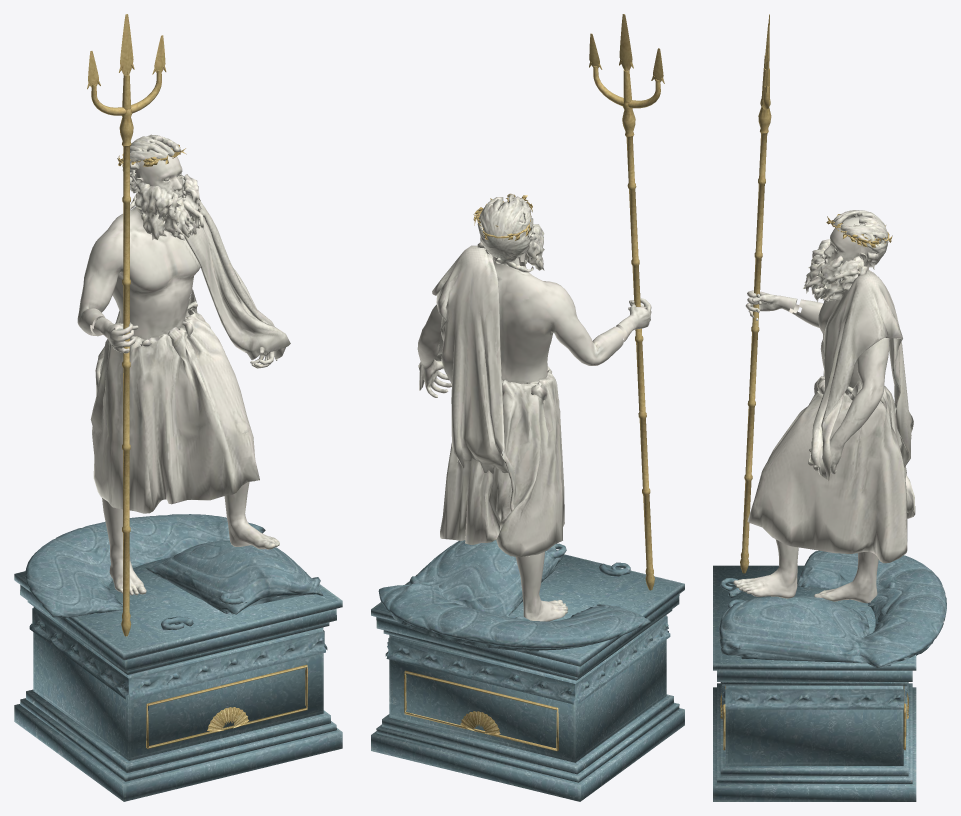
The model's file is guardian-tides-lod0.glb.
3 renders of one model, left to right at view 1: azimuth 30°, elevation 25°; view 2: azimuth 150°, elevation 25°; view 3: azimuth 270°, elevation 25°, orthographic. The views are drawn at different scales.
Parts seen in each view (by area): view 1: TIDES__PEDESTAL, TIDES__CLOTH, TIDES__WAVES, TIDES__BODY, TIDES__TRIDENT, TIDES__HAIR_BEARD, TIDES__DETAILS, TIDES__FACE, TIDES__HAND_GRIP; view 2: TIDES__PEDESTAL, TIDES__CLOTH, TIDES__WAVES, TIDES__BODY, TIDES__TRIDENT, TIDES__HAIR_BEARD, TIDES__DETAILS, TIDES__HAND_GRIP; view 3: TIDES__PEDESTAL, TIDES__CLOTH, TIDES__WAVES, TIDES__BODY, TIDES__TRIDENT, TIDES__HAIR_BEARD, TIDES__FACE, TIDES__HAND_GRIP, TIDES__DETAILS.
Boxes of the visible parts, bbox=[...] form: TIDES__PEDESTAL: bbox=[14, 557, 342, 801]; TIDES__CLOTH: bbox=[90, 202, 290, 513]; TIDES__WAVES: bbox=[25, 514, 323, 630]; TIDES__BODY: bbox=[77, 170, 279, 595]; TIDES__TRIDENT: bbox=[87, 14, 166, 636]; TIDES__HAIR_BEARD: bbox=[122, 134, 203, 240]; TIDES__DETAILS: bbox=[117, 144, 307, 748]; TIDES__FACE: bbox=[135, 144, 182, 200]; TIDES__HAND_GRIP: bbox=[92, 317, 138, 353]; TIDES__PEDESTAL: bbox=[371, 554, 684, 801]; TIDES__CLOTH: bbox=[418, 245, 564, 557]; TIDES__WAVES: bbox=[378, 540, 651, 651]; TIDES__BODY: bbox=[417, 257, 624, 621]; TIDES__TRIDENT: bbox=[589, 14, 664, 590]; TIDES__HAIR_BEARD: bbox=[477, 194, 544, 272]; TIDES__DETAILS: bbox=[404, 193, 558, 751]; TIDES__HAND_GRIP: bbox=[616, 298, 651, 341]; TIDES__PEDESTAL: bbox=[713, 565, 916, 801]; TIDES__CLOTH: bbox=[747, 271, 915, 563]; TIDES__WAVES: bbox=[719, 550, 946, 667]; TIDES__BODY: bbox=[733, 240, 890, 603]; TIDES__TRIDENT: bbox=[740, 14, 771, 573]; TIDES__HAIR_BEARD: bbox=[803, 210, 888, 302]; TIDES__FACE: bbox=[823, 217, 871, 266]; TIDES__HAND_GRIP: bbox=[745, 290, 799, 320]; TIDES__DETAILS: bbox=[720, 214, 908, 750].
Bounding box in the file's own units: 3.41 × 9.9 × 2.98.
Materials: 3 (3 with a texture image).
